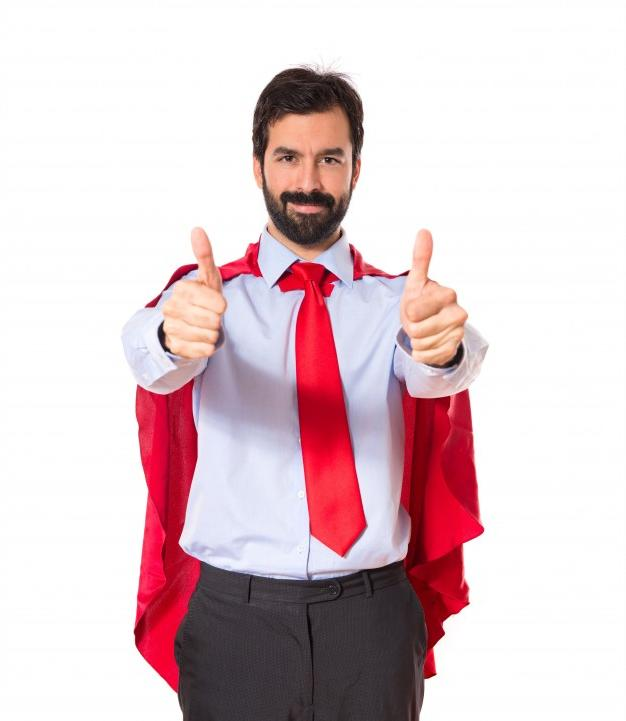thumbsup: (403, 228, 469, 365), (161, 226, 226, 359)
